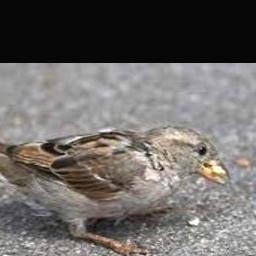Sparrow: (0, 125, 232, 256)
